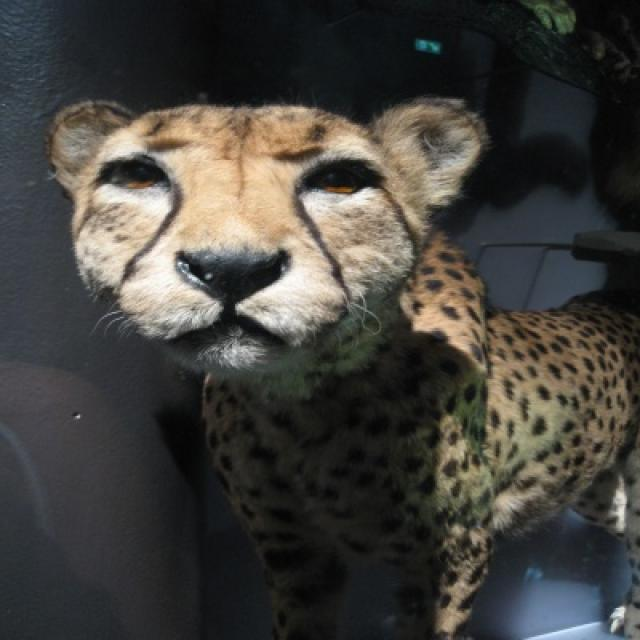Cheetah: (45, 96, 638, 638)
